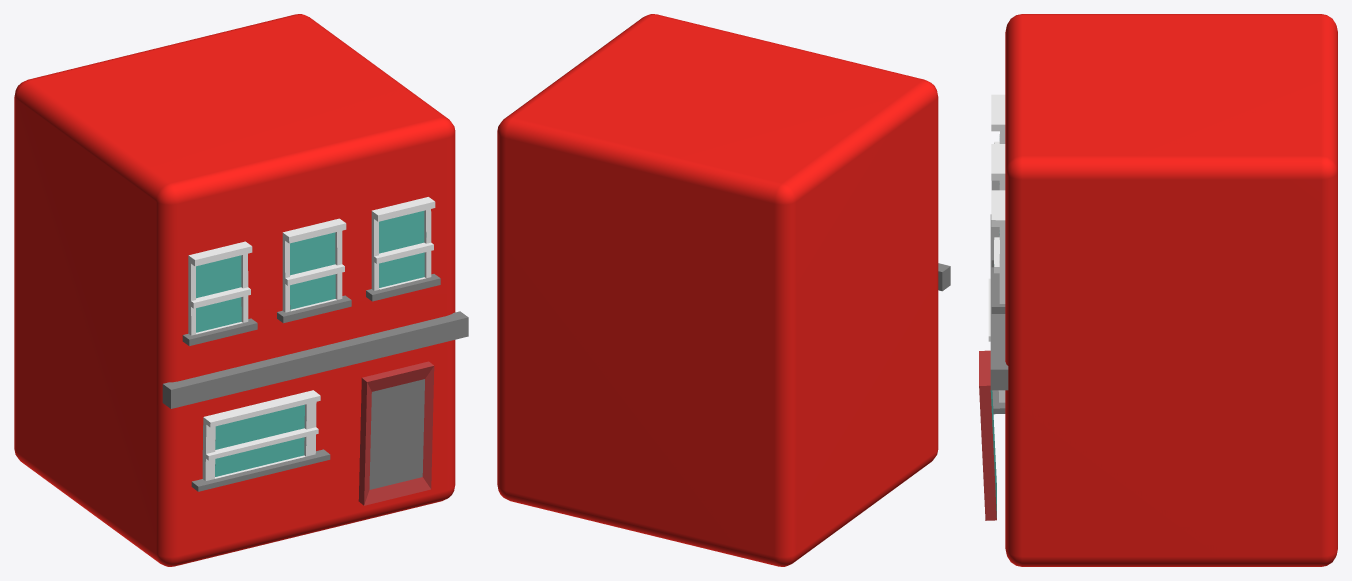
File: prediozin_2.dae
The picture shows the model from 3 angles, left to right: view 1: azimuth 30°, elevation 25°; view 2: azimuth 150°, elevation 25°; view 3: azimuth 270°, elevation 25°; orthographic projection. The views are drawn at different scales.
Visible parts, largest first — view 1: pCube8, pCube17, pCube20, pCube16, pCube11, pCube12, pCube10; view 2: pCube8; view 3: pCube8, pCube17, pCube12, pCube16, pCube11, pCube10, pCube20.
Boxes of the visible parts, bbox=[...] form: pCube8: bbox=[14, 14, 455, 566]; pCube17: bbox=[358, 361, 434, 505]; pCube20: bbox=[191, 390, 330, 491]; pCube16: bbox=[162, 311, 468, 408]; pCube11: bbox=[277, 218, 351, 323]; pCube12: bbox=[366, 197, 440, 301]; pCube10: bbox=[182, 241, 257, 346]; pCube8: bbox=[497, 14, 938, 566]; pCube8: bbox=[1005, 14, 1337, 566]; pCube17: bbox=[979, 350, 996, 520]; pCube12: bbox=[991, 190, 1005, 313]; pCube16: bbox=[990, 214, 1008, 390]; pCube11: bbox=[991, 144, 1005, 267]; pCube10: bbox=[991, 94, 1005, 190]; pCube20: bbox=[988, 278, 1005, 414].
Size of the model in its own units: 2.75 by 3.38 by 2.69.
